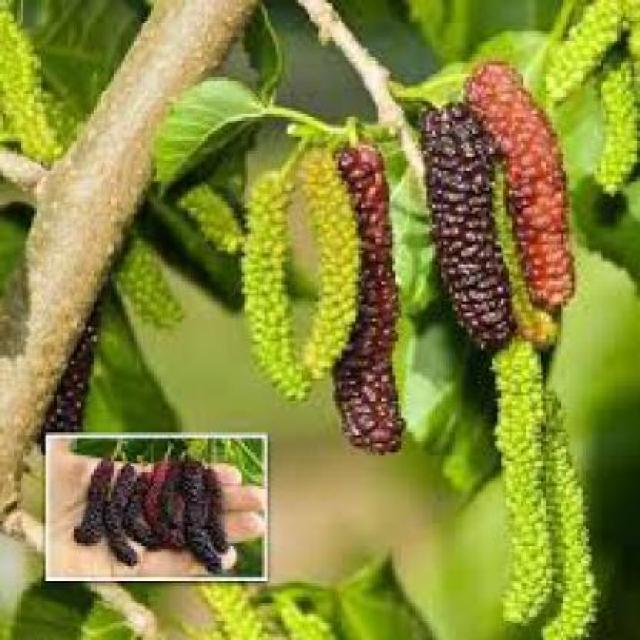RIPE: (483, 63, 572, 302)
UNRIPE: (496, 345, 593, 637), (242, 177, 308, 395), (566, 0, 631, 191), (296, 148, 342, 369), (0, 0, 63, 160), (196, 583, 322, 637), (114, 257, 178, 328), (174, 191, 238, 251)
